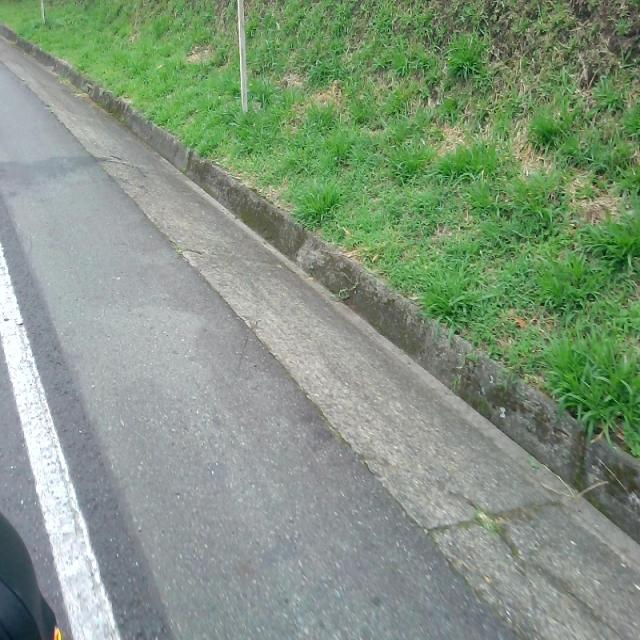DITCH: (1, 24, 638, 638), (7, 41, 637, 638), (2, 62, 638, 638)
